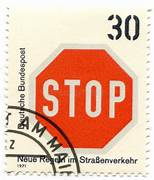stop: (28, 44, 139, 151)
